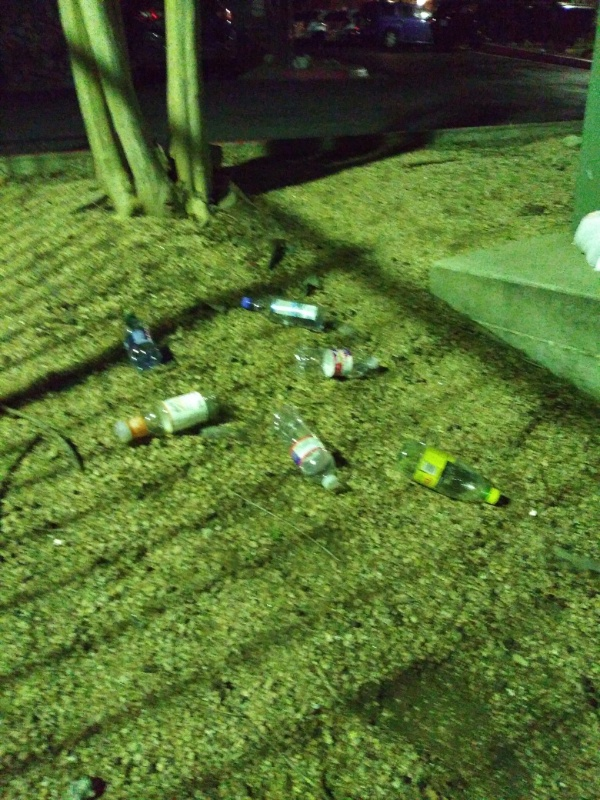bottle: (388, 439, 505, 514), (259, 400, 345, 497), (110, 383, 220, 449), (233, 292, 330, 335), (288, 344, 385, 382), (115, 305, 166, 373)
